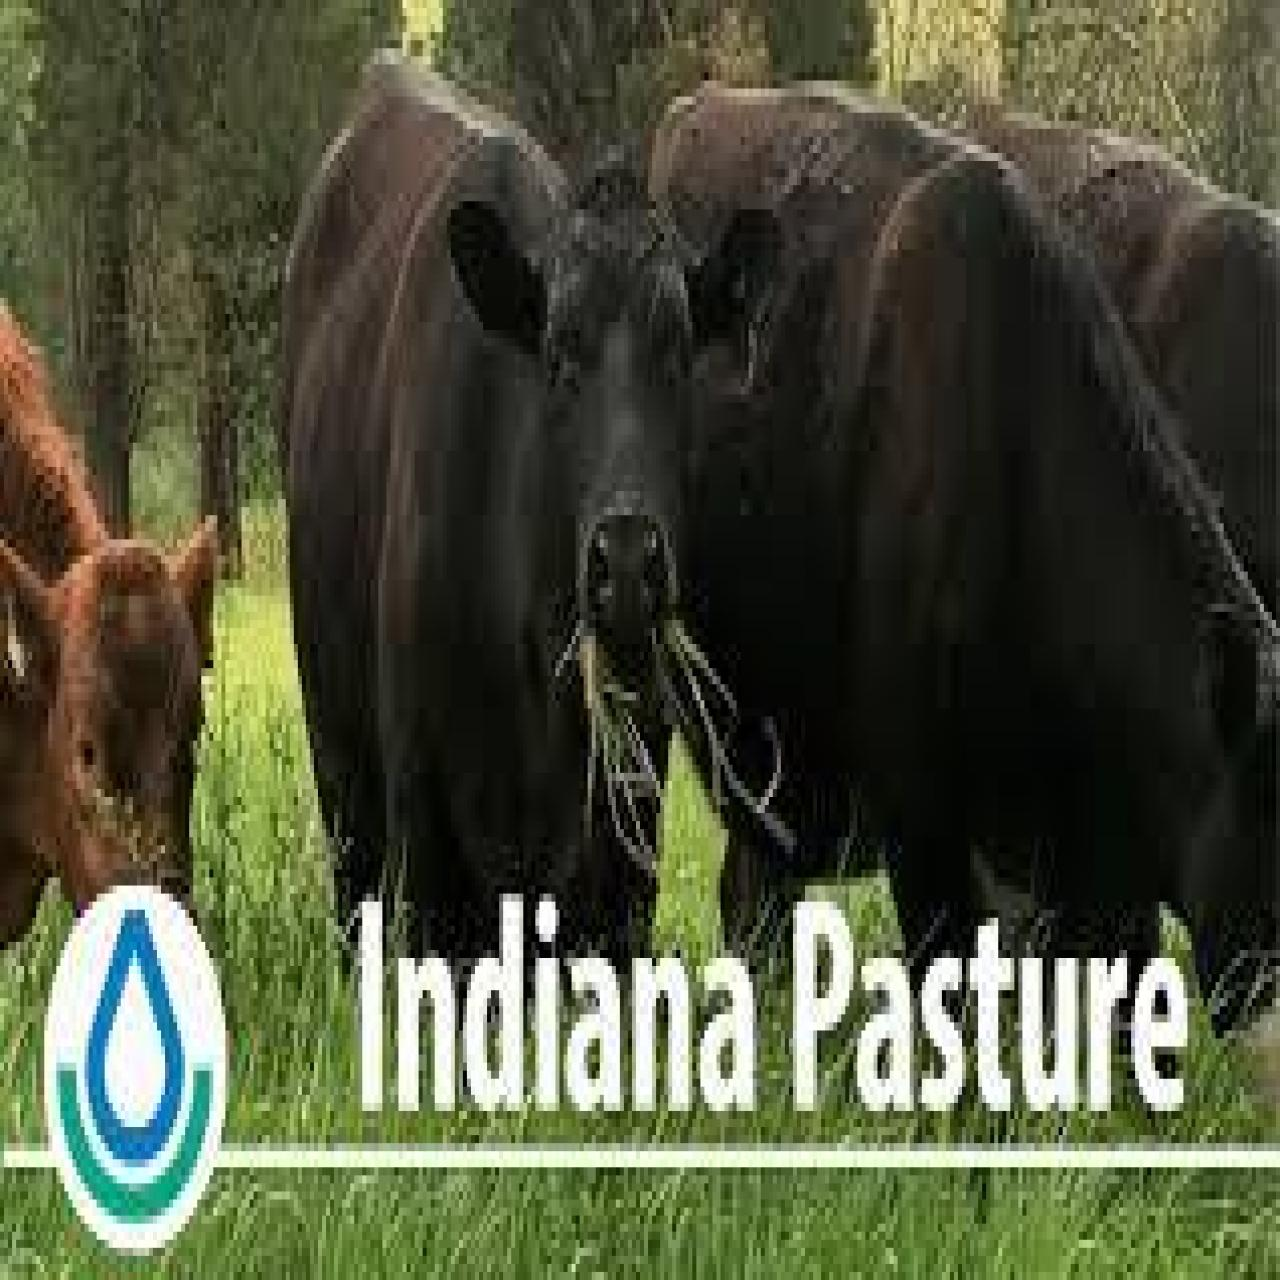cow: (644, 76, 1280, 1075), (274, 45, 781, 1002), (934, 117, 1280, 656), (0, 274, 217, 949)
